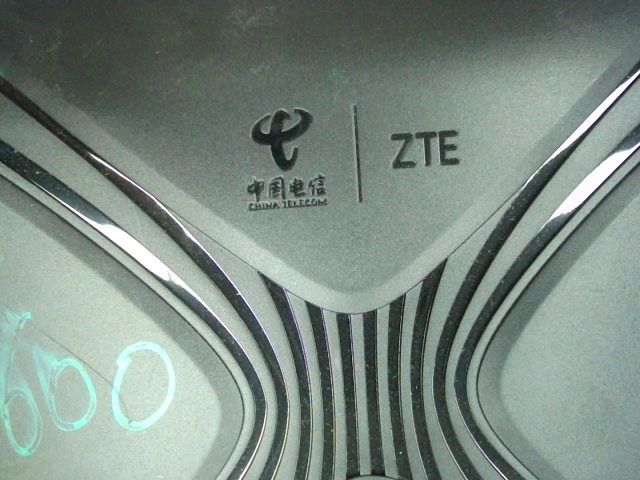AX_ZTEChinaTelecom: (216, 100, 466, 216)
